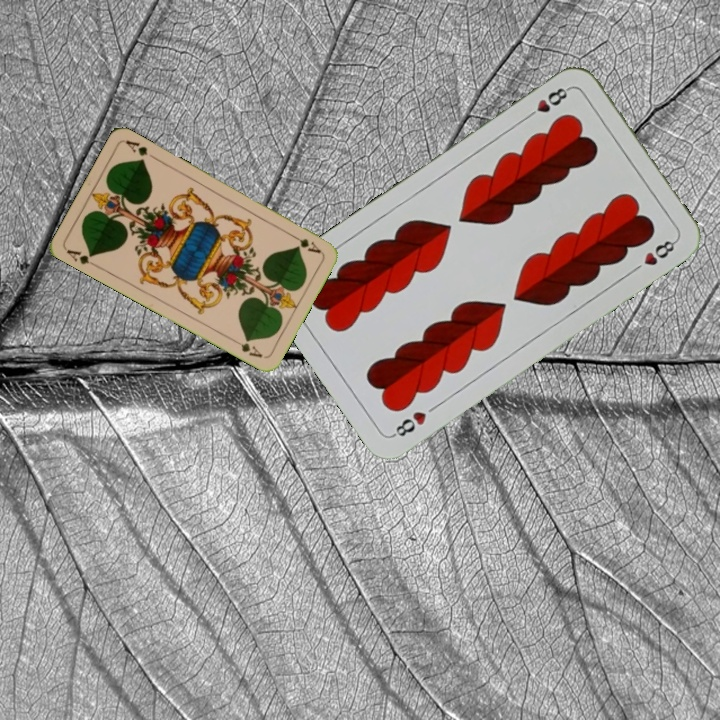GA: (62, 245, 100, 270), (287, 230, 323, 256)
H8: (521, 83, 573, 122), (388, 407, 429, 440)
